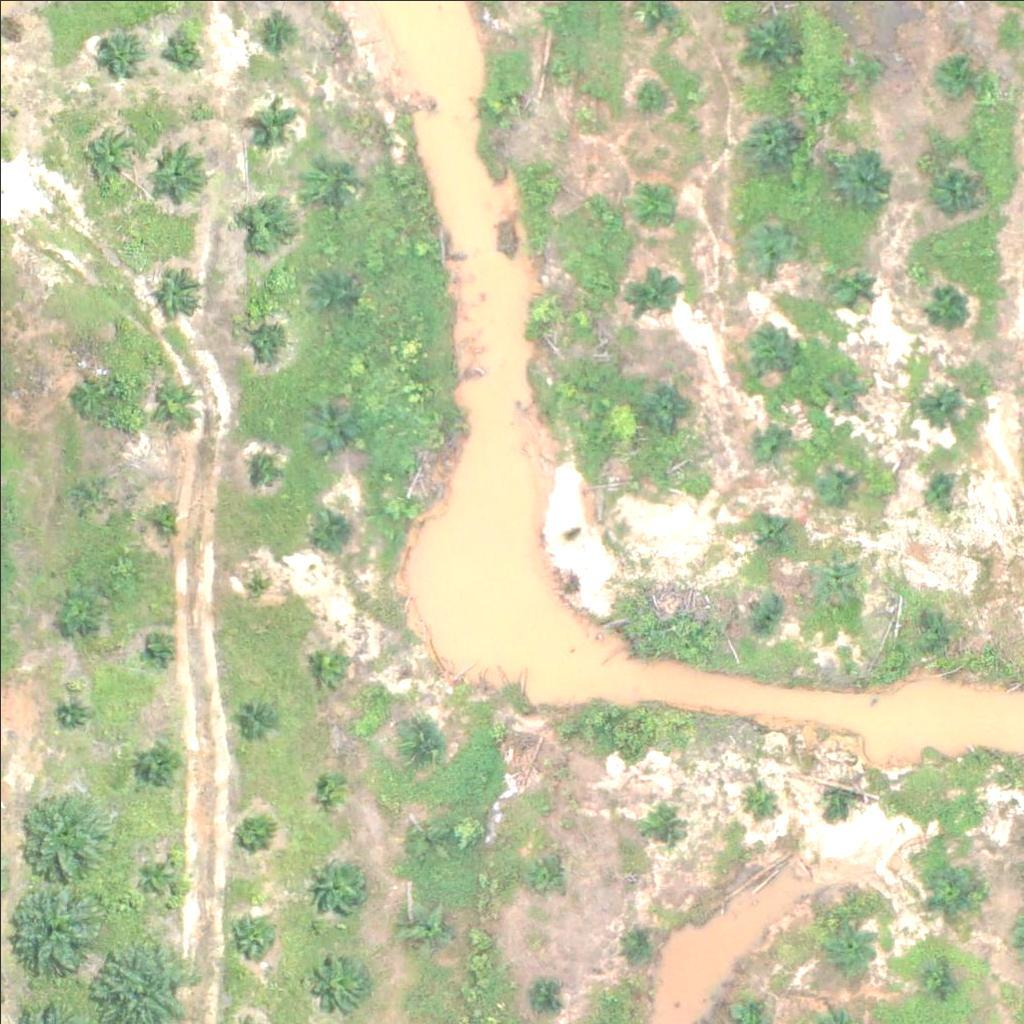Kelapa_Sawit: (19, 793, 107, 881), (7, 885, 95, 973), (833, 148, 896, 211), (736, 212, 799, 275), (78, 123, 141, 186), (306, 852, 368, 915), (145, 141, 207, 204), (915, 858, 977, 920), (742, 117, 792, 168), (743, 14, 793, 65), (61, 370, 111, 421), (315, 961, 365, 1012), (148, 376, 198, 427), (302, 637, 352, 688), (399, 904, 449, 955), (930, 163, 980, 214), (918, 282, 968, 333), (741, 327, 791, 377), (823, 921, 873, 971), (240, 306, 290, 356), (242, 197, 292, 247), (153, 264, 203, 314), (93, 28, 143, 78), (628, 263, 678, 313), (630, 173, 680, 223), (53, 582, 103, 632), (134, 742, 184, 792), (306, 398, 356, 448), (637, 378, 687, 428), (131, 851, 181, 901), (226, 915, 276, 965), (304, 147, 354, 197), (255, 104, 293, 142), (254, 13, 292, 51), (167, 30, 205, 68), (541, 53, 579, 91), (531, 166, 569, 204), (525, 291, 563, 329), (314, 509, 352, 547), (916, 962, 954, 1000), (915, 473, 953, 511), (747, 431, 785, 469), (747, 518, 785, 556), (748, 593, 786, 631), (939, 57, 977, 95), (478, 91, 515, 129), (70, 473, 108, 510), (311, 766, 349, 803), (315, 271, 352, 309), (521, 978, 559, 1015), (646, 802, 683, 840), (404, 820, 442, 857), (232, 817, 269, 855), (742, 778, 779, 816), (919, 390, 957, 427), (905, 593, 942, 631), (820, 556, 857, 594), (815, 464, 852, 502), (825, 368, 862, 406), (844, 51, 881, 89), (632, 73, 669, 110), (236, 694, 273, 731), (404, 722, 441, 759), (624, 930, 661, 967), (527, 852, 564, 889), (834, 265, 871, 302), (831, 784, 856, 810), (147, 636, 172, 661), (154, 506, 179, 531), (242, 567, 267, 592), (248, 455, 273, 480), (60, 700, 84, 725)
